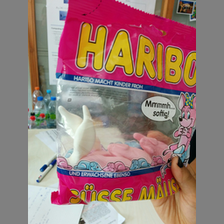candy: (53, 1, 196, 205)
